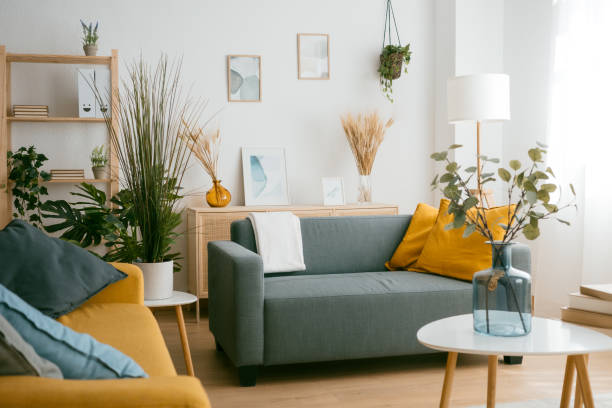floor lamp: (442, 71, 512, 205)
flower vase: (431, 140, 579, 338), (339, 107, 394, 203), (177, 123, 237, 208)
side table: (143, 292, 203, 379)
small plant: (108, 61, 189, 298), (78, 15, 99, 55)
sofa: (205, 198, 533, 389), (0, 219, 214, 407)
table: (416, 306, 611, 397)
wall art: (239, 144, 292, 208), (224, 51, 263, 104), (294, 29, 332, 82)
